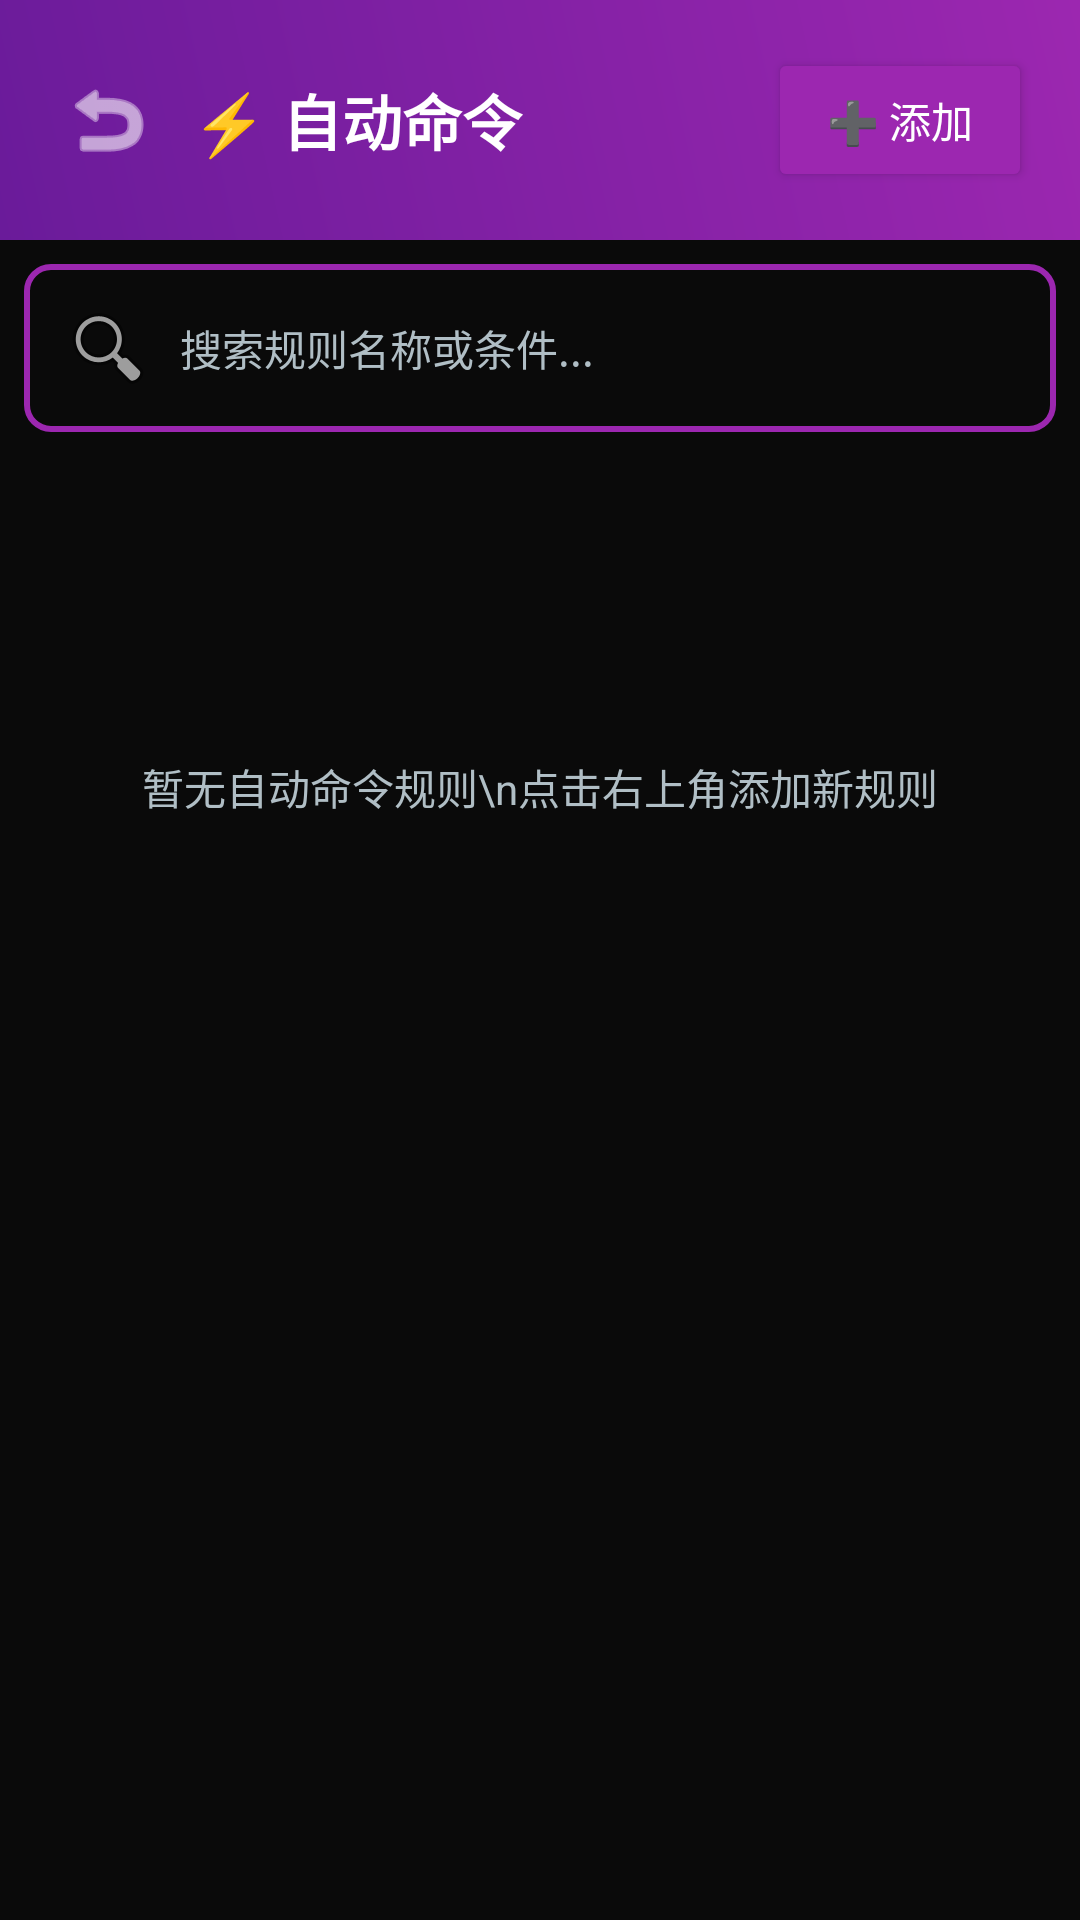

Icon bounding boxes for this 1080 × 1920 phone screenshot, format bbox(x1, y1, x2, y2):
返回: bbox(75, 89, 144, 152)
